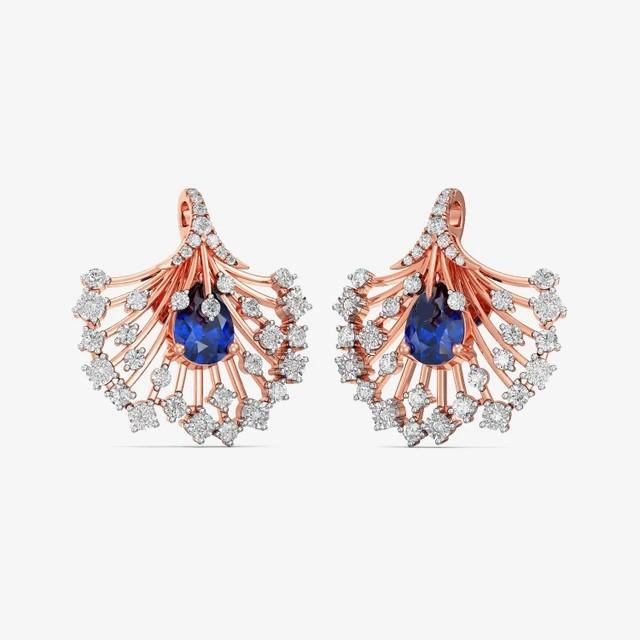missing gem: (417, 296, 437, 320)
